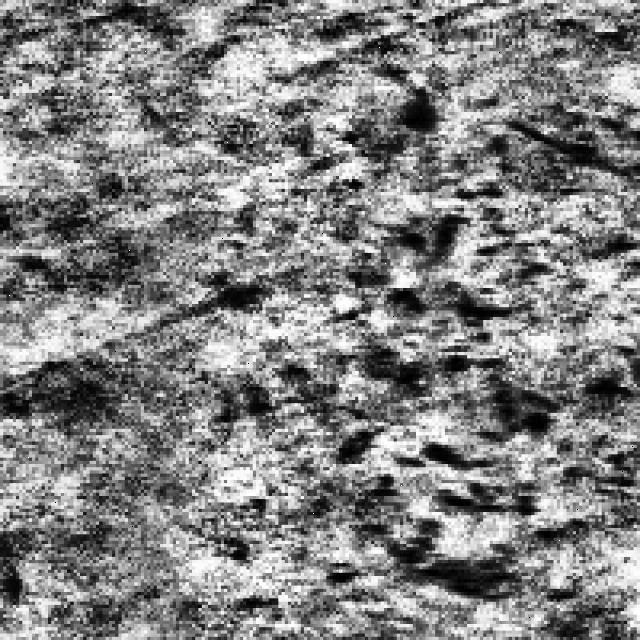Crazing: (320, 102, 598, 614)
